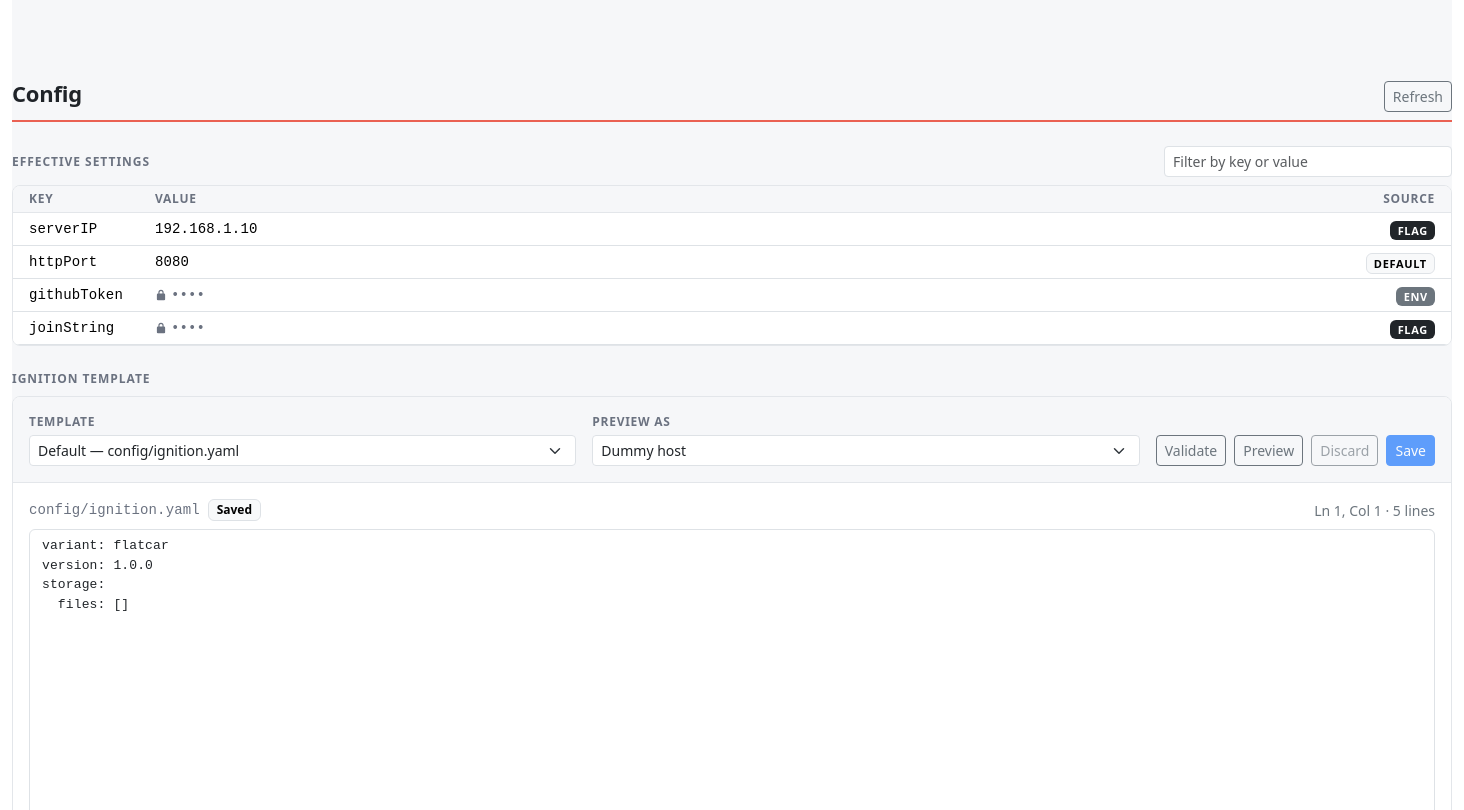
it: ConfigView settings › filters settings client-side by key or value
Type "token" into the search field with test id "settings-filter" showing "Filter by key or value" at (1308, 162), box [1164, 146, 1452, 177]
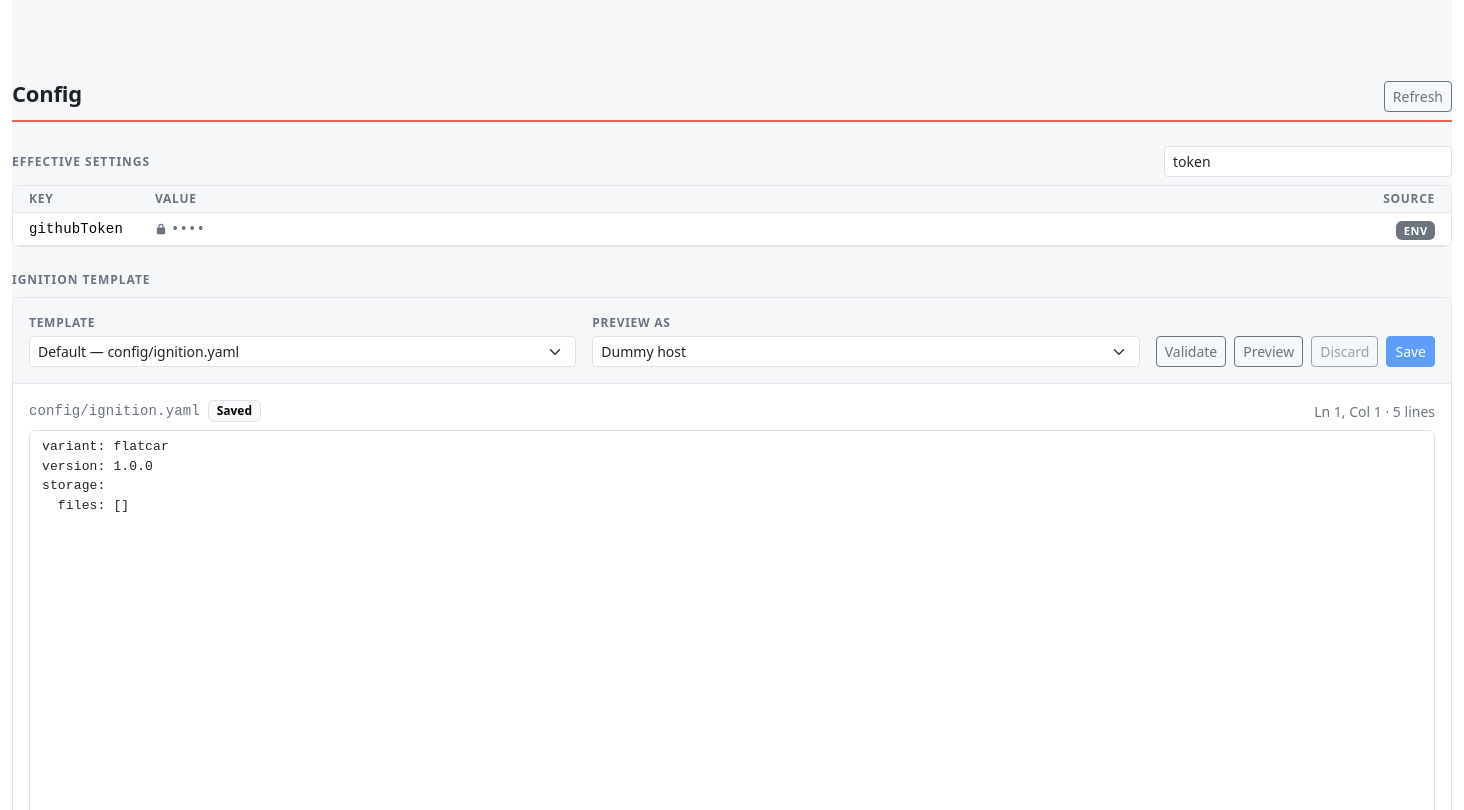
Replace the text in the 1st search field with test id "settings-filter" with "192.168" at (1308, 162), box [1164, 146, 1452, 177]
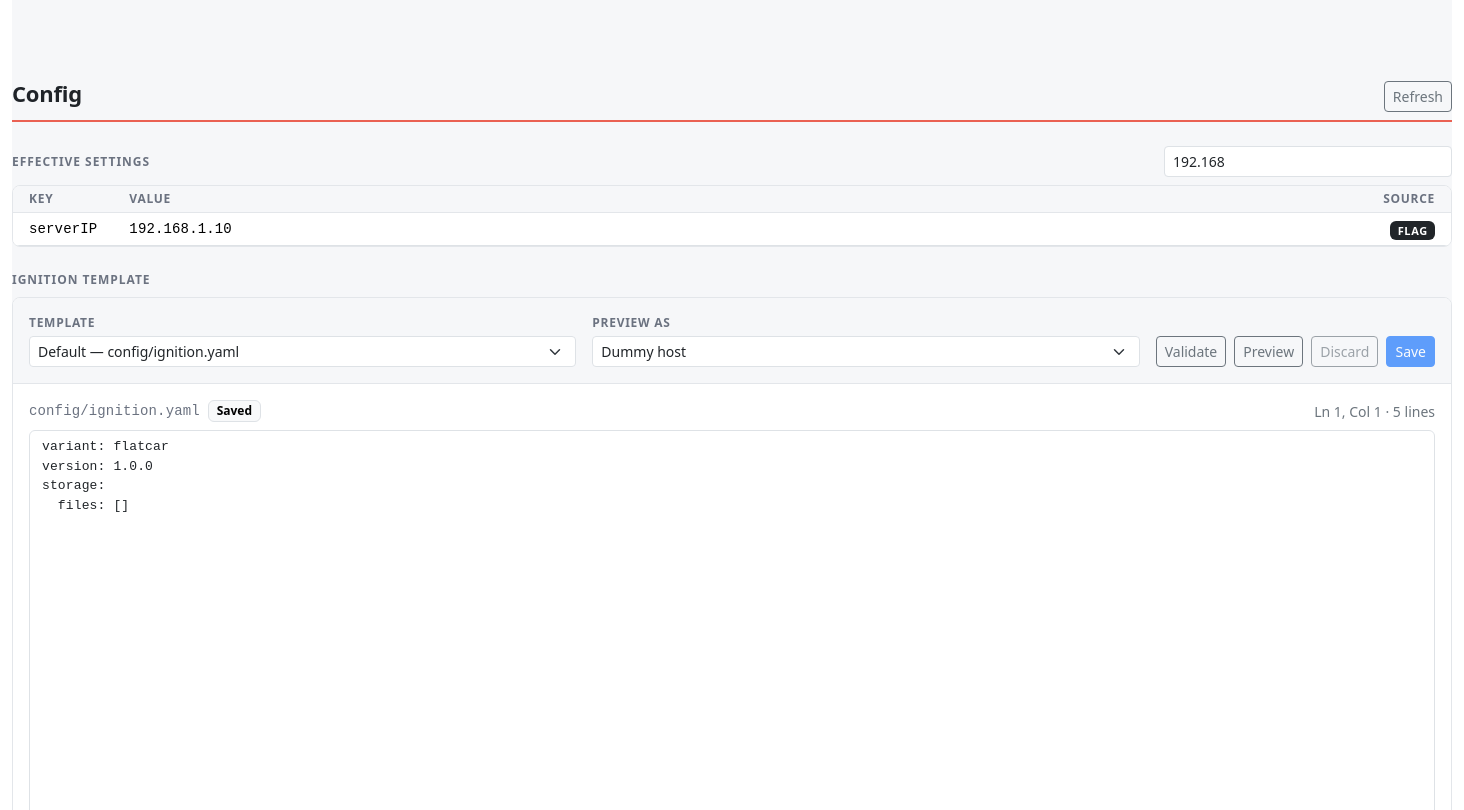
Now the row "serverIP 192.168.1.10 flag" has attribute data-key="serverIP", box [13, 212, 1451, 246]
Replace the text in the 1st search field with test id "settings-filter" with "nope" at (1308, 162), box [1164, 146, 1452, 177]
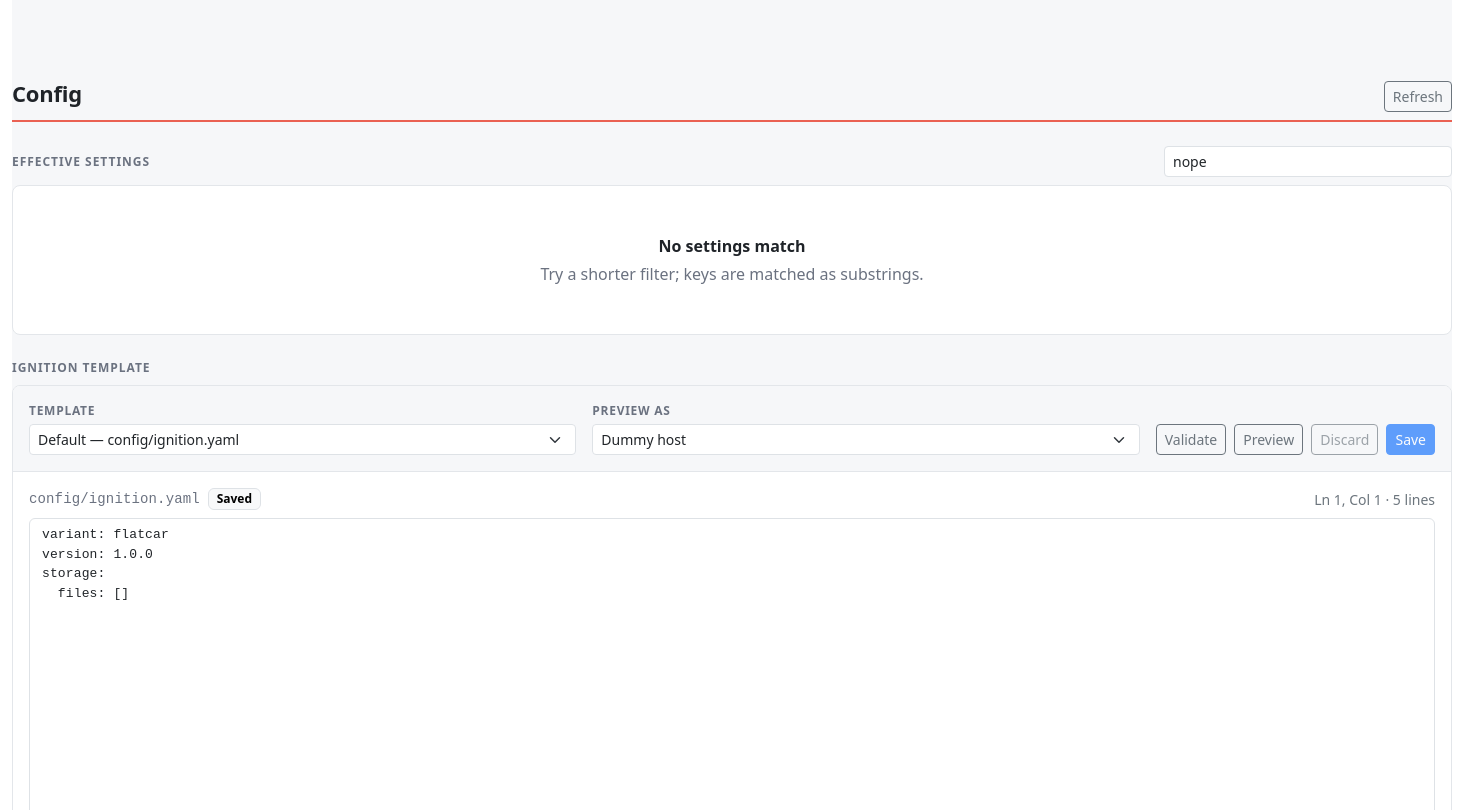
Now the text "No settings match" is shown, box [658, 235, 806, 257]
